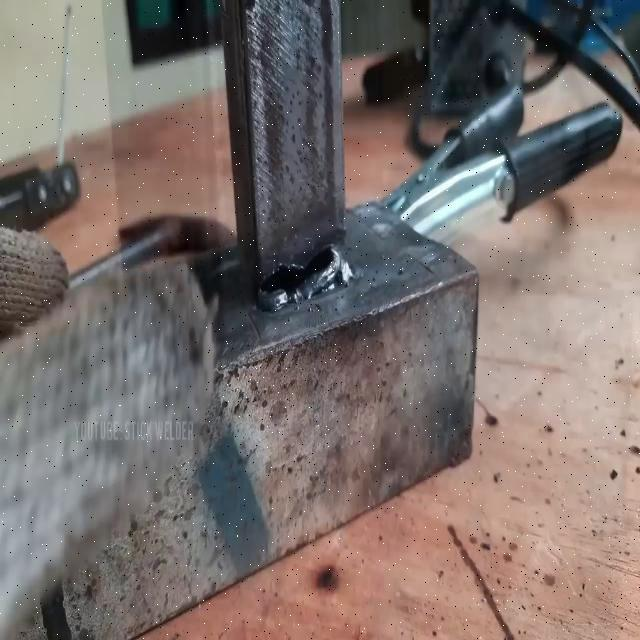Bad Welding: (257, 250, 348, 316)
